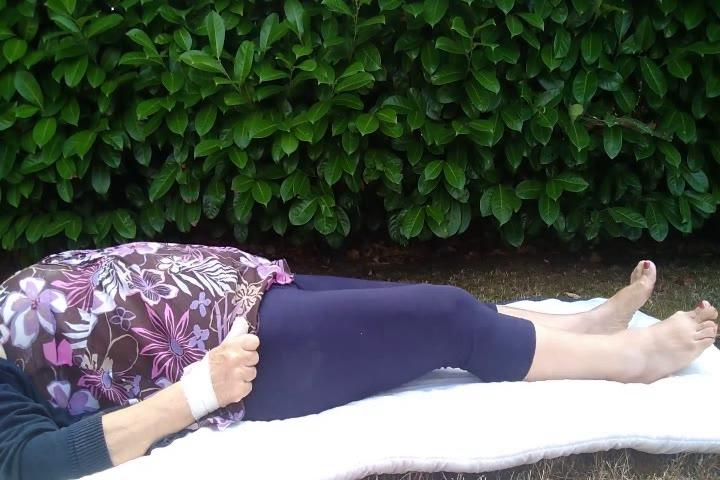lowerbody: (227, 239, 715, 435)
